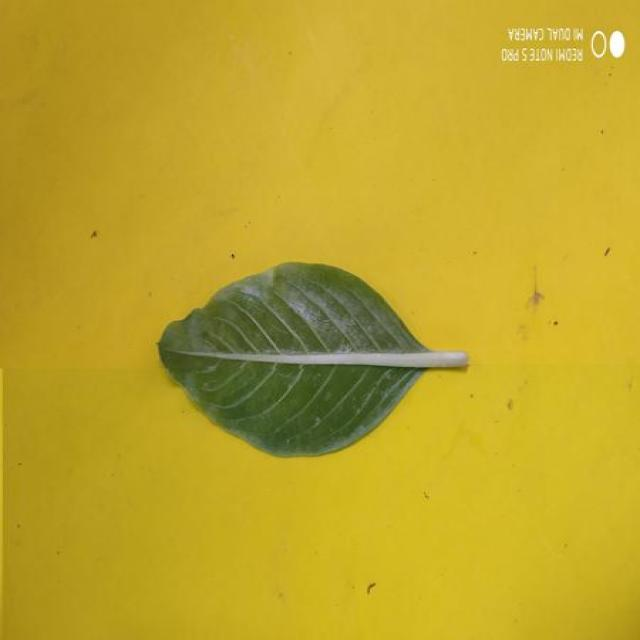catharanthus: (158, 262, 433, 456)
